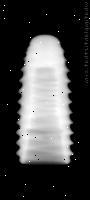Cowellmedi: (16, 33, 73, 164)
